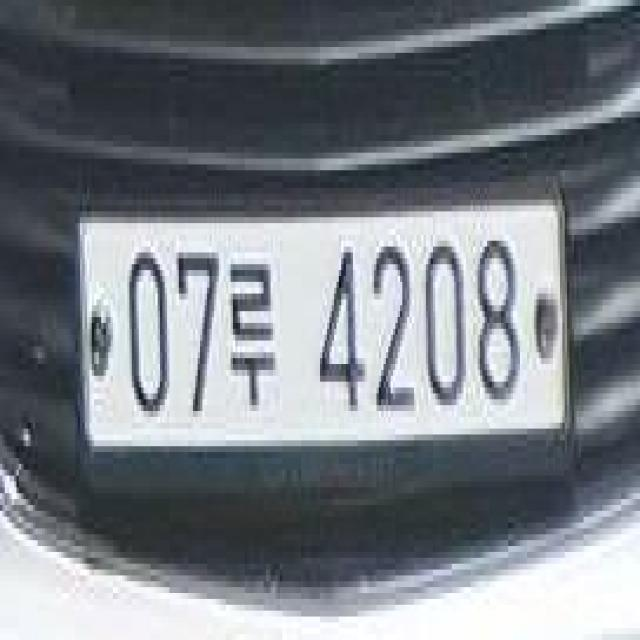illegal_plate: (81, 181, 570, 491)
